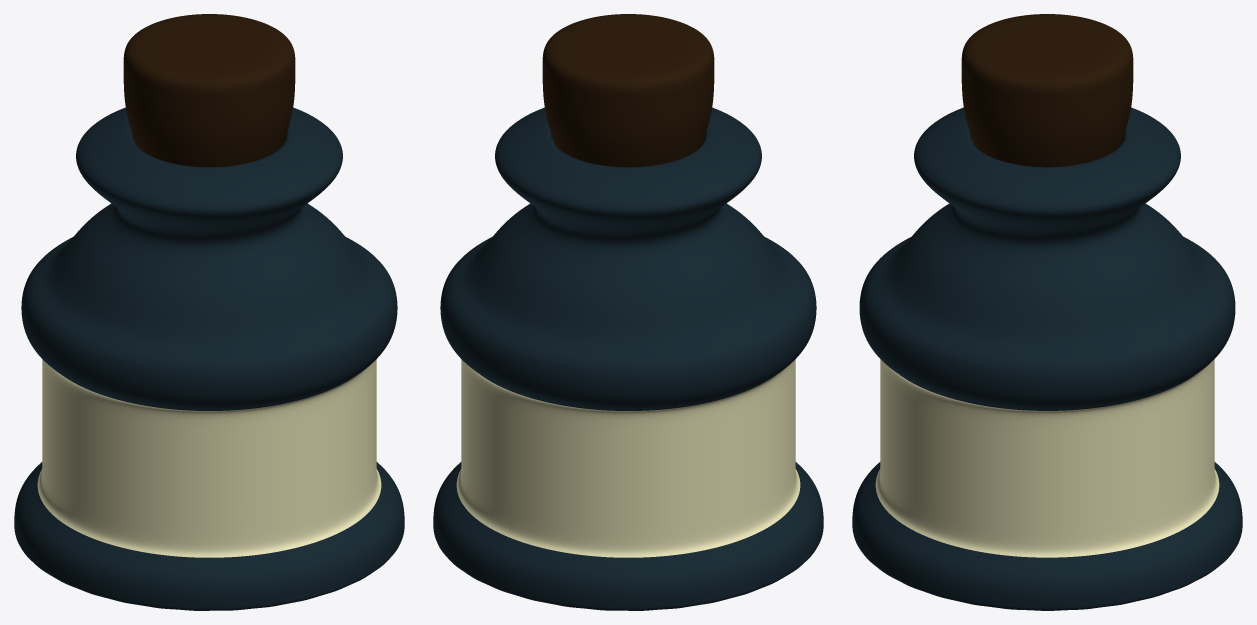
The model's file is encre.fbx.
3 views of the same model, side by side, from view 1: azimuth 30°, elevation 25°; view 2: azimuth 150°, elevation 25°; view 3: azimuth 270°, elevation 25° (orthographic).
Visible parts, largest first — view 1: Circle, Circle.001; view 2: Circle, Circle.001; view 3: Circle, Circle.001.
Boxes of the visible parts, box(x1,y1,x2,y2) form: Circle: box(14, 107, 404, 610); Circle.001: box(123, 14, 295, 167); Circle: box(433, 107, 823, 610); Circle.001: box(542, 14, 714, 167); Circle: box(852, 107, 1242, 610); Circle.001: box(961, 14, 1133, 167).
Bounding box in the file's own units: 199 × 276 × 199.
